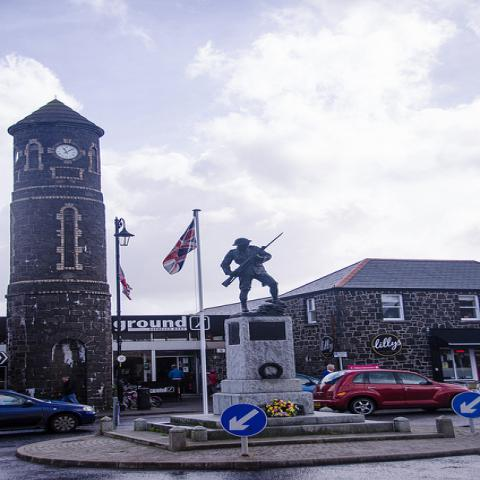car: (314, 370, 474, 416), (2, 388, 99, 436), (295, 374, 320, 394)
